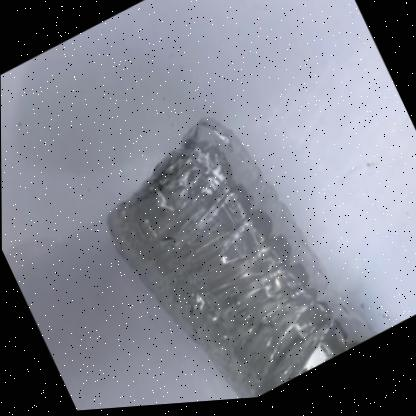Plastic: (105, 120, 374, 402)
